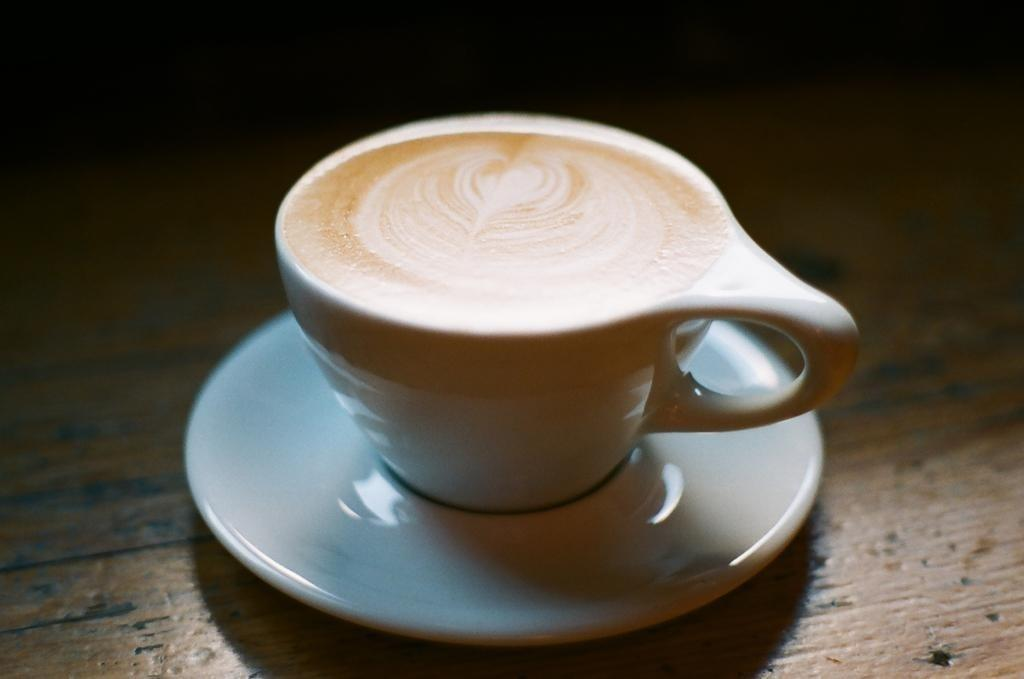cup-handle: (271, 113, 863, 516)
